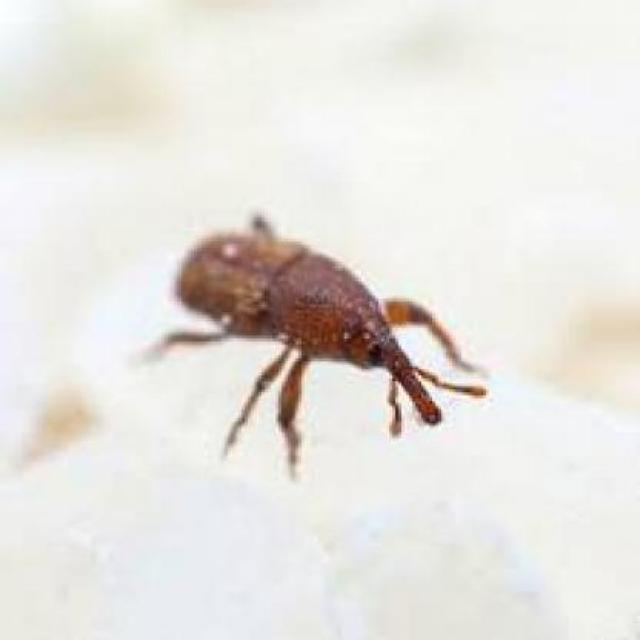rice-bug: (168, 220, 477, 458)
